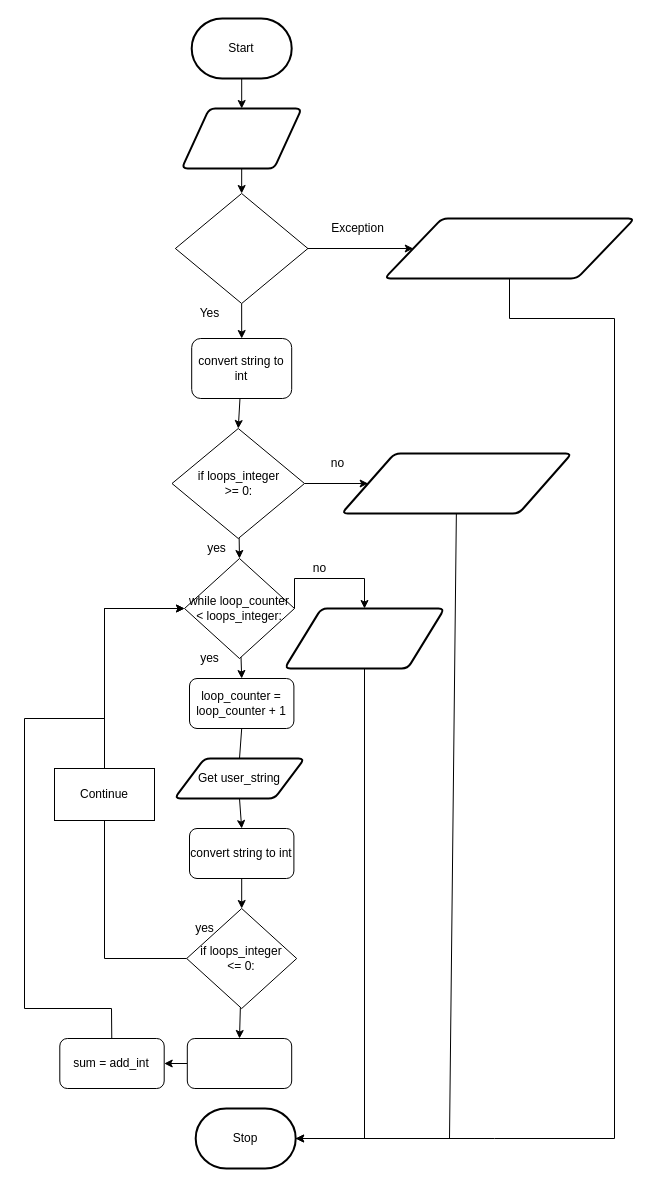
The diagram is 653 pixels wide and 1186 high, and some of its shapes have lost their labels. Here are the shapes that lost their labels. From the top down, the centre of each, then its label:
point 241,138: get loops_string
point 241,248: try
point 509,248: print("{0}, is not a valid input." .format(loops_string))
point 456,483: print("You did not enter a positive integer.")
point 364,638: print("The sum of all positive integers = {0}".format(sum))
point 239,1063: add_int = add_int + user_number
